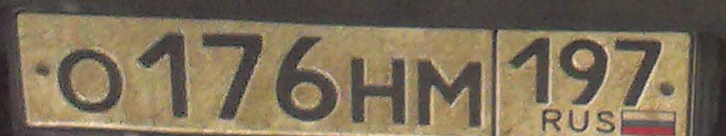character: (200, 22, 266, 124), (274, 30, 343, 123), (134, 28, 194, 121), (415, 54, 486, 129), (55, 44, 126, 115), (349, 55, 410, 127), (556, 34, 612, 109), (612, 33, 663, 108), (508, 35, 554, 106)
